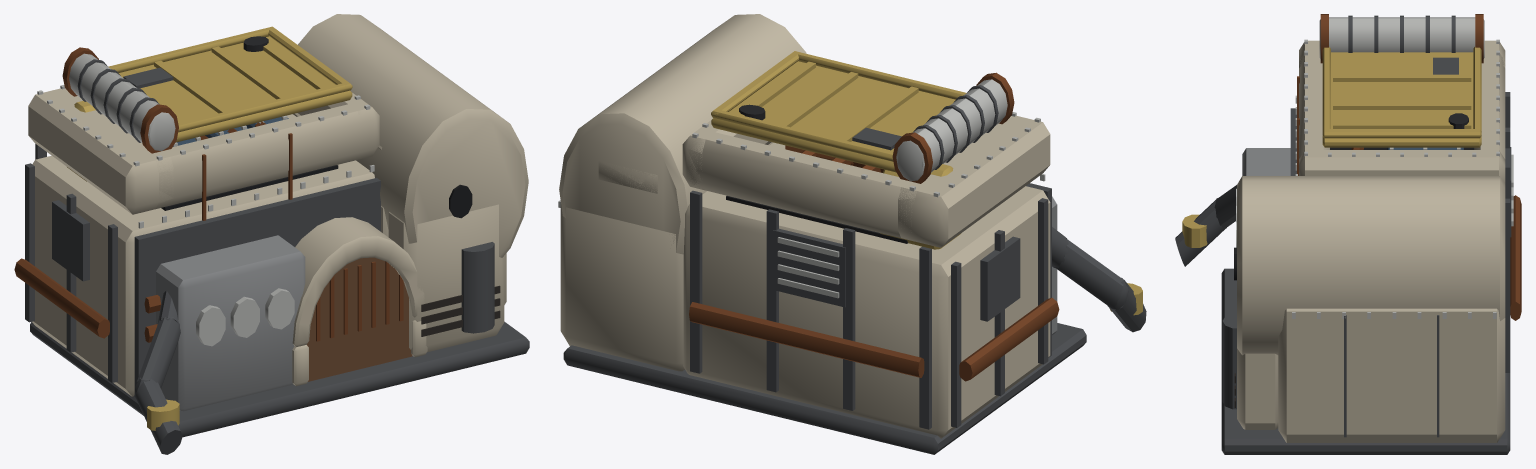
Rendered from cargo-bay.glb.
3 views of the same model, side by side, from view 1: azimuth 30°, elevation 25°; view 2: azimuth 150°, elevation 25°; view 3: azimuth 270°, elevation 25° (orthographic). The views are drawn at different scales.
Parts seen in each view (by area): view 1: body, anim_hatch_bay; view 2: body, anim_hatch_bay; view 3: body, anim_hatch_bay.
Part boxes in pixels (x1=…): body: x1=14, y1=14, x2=529, y2=454; anim_hatch_bay: x1=62, y1=26, x2=352, y2=153; body: x1=558, y1=14, x2=1146, y2=454; anim_hatch_bay: x1=711, y1=51, x2=1014, y2=183; body: x1=1175, y1=39, x2=1521, y2=454; anim_hatch_bay: x1=1319, y1=14, x2=1484, y2=147.
Size of the model in its own units: 3.13 by 2.12 by 2.33.
